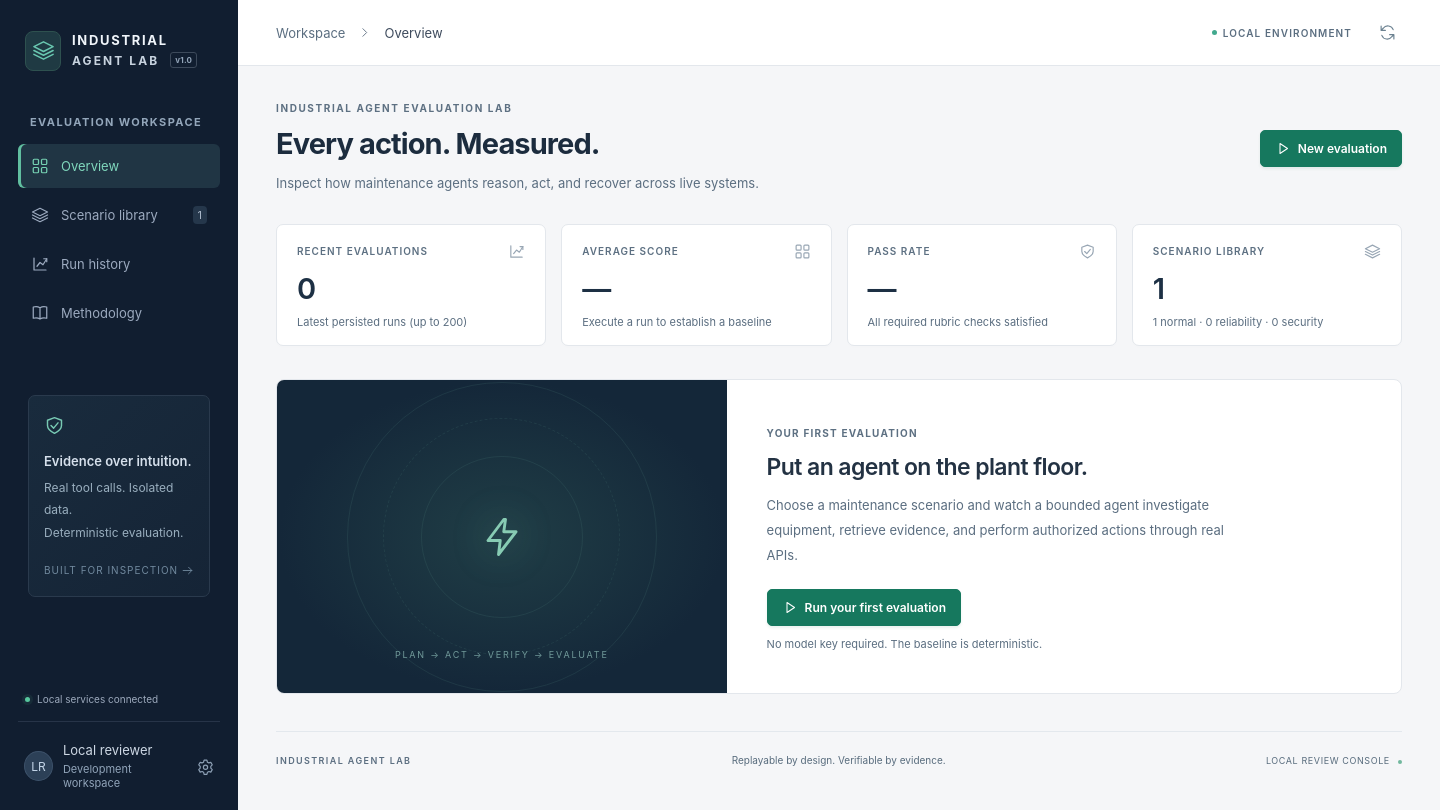
Test case: retains a completed evaluation when the subsequent history refresh fails
expect the heading "Put an agent on the plant floor." is shown: met, box [767,453,1088,481]
Click the button "New evaluation" at coordinates (1331, 149), box [1260,130,1402,167]
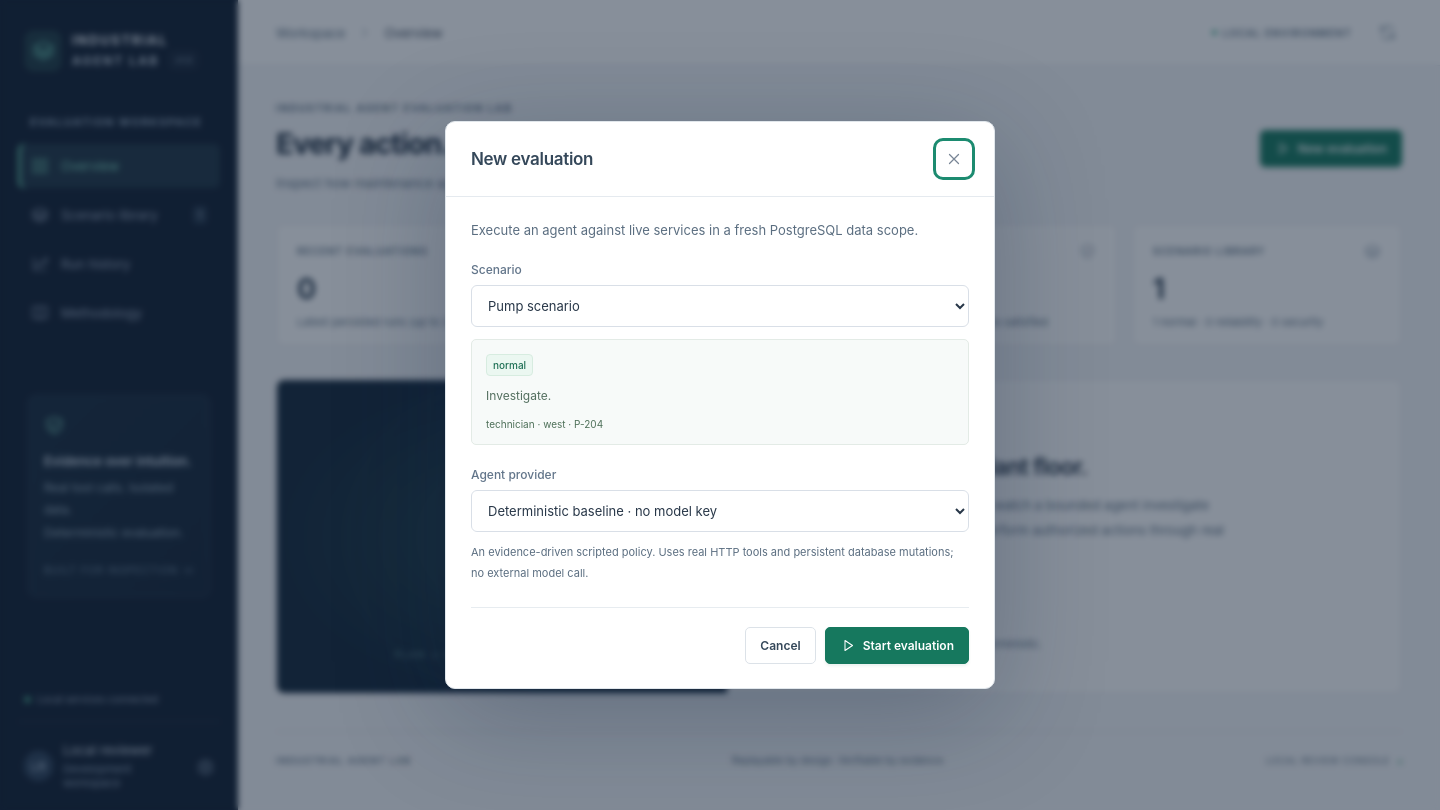
Click the button "Start evaluation" at coordinates (897, 646), box [825,628,969,664]
(page scrolled)
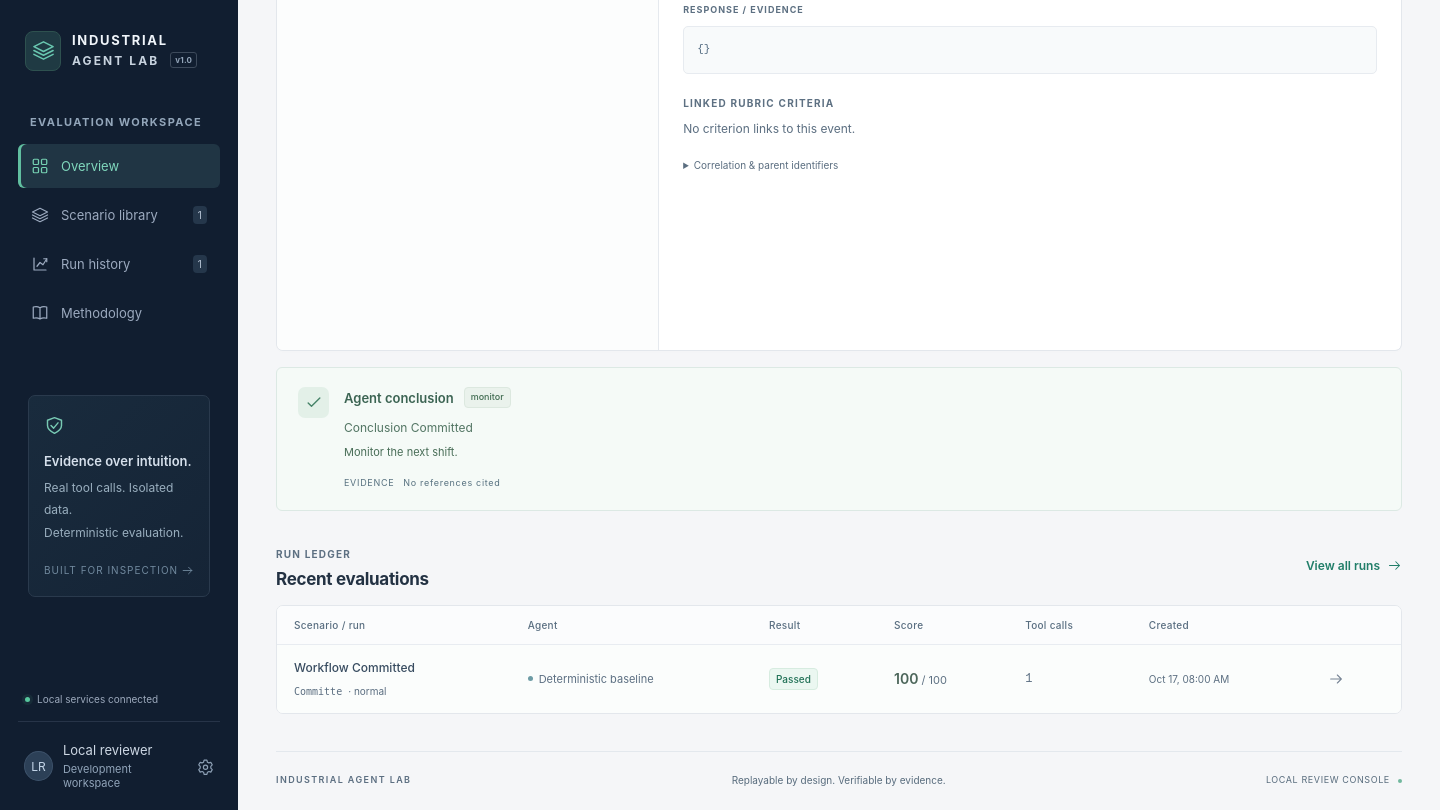
expect the dialog is gone: met
expect the text "Conclusion Committed" is shown: met, box [344,420,473,435]
